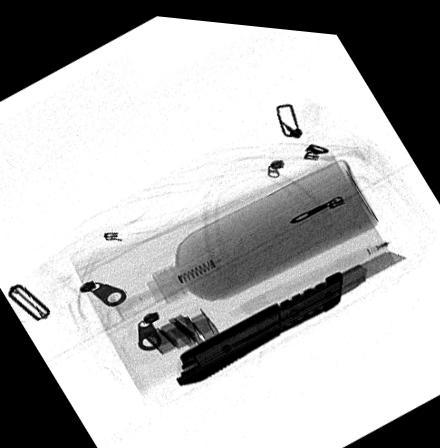Knife: (173, 241, 406, 381)
